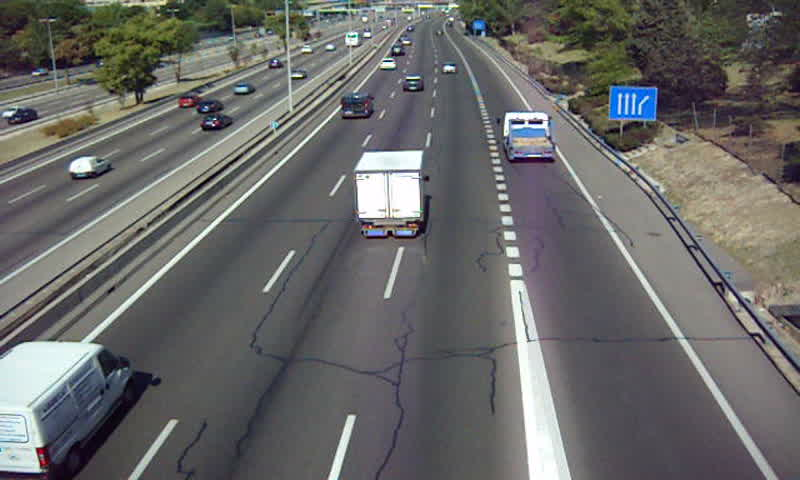car: (401, 75, 425, 95), (378, 56, 396, 72), (442, 61, 458, 74)
small-truck: (354, 150, 427, 240), (501, 110, 554, 159)
van: (1, 340, 133, 480), (339, 93, 372, 119)
